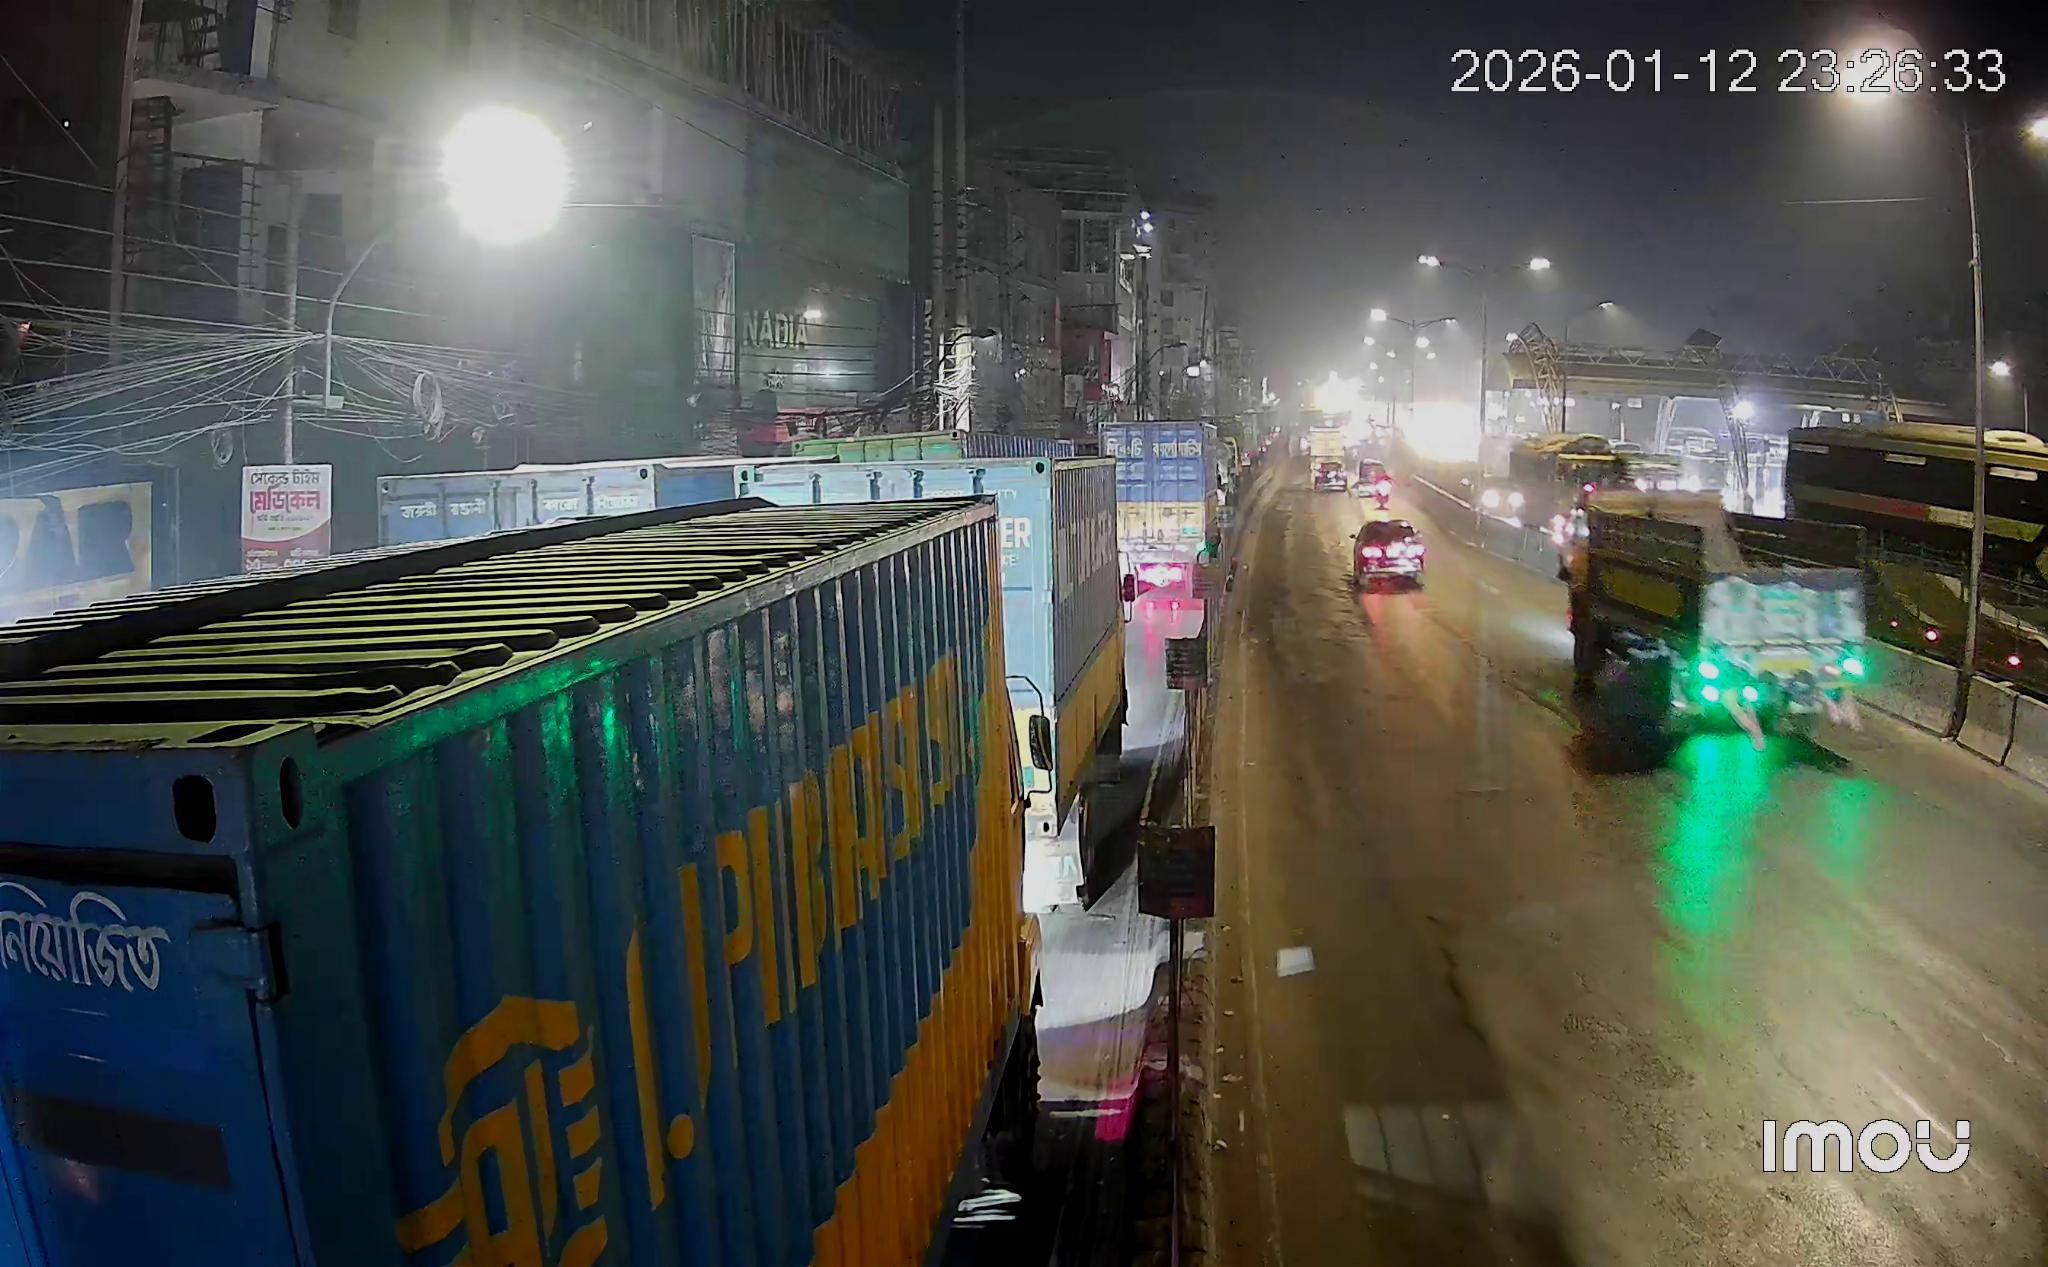Bus: (1786, 424, 1973, 666), (1978, 432, 2047, 698)
Private-Sedan Car: (1352, 512, 1425, 590)
Truck: (0, 499, 1050, 1267), (753, 456, 1131, 911), (1558, 490, 1868, 749), (1103, 420, 1223, 607)
